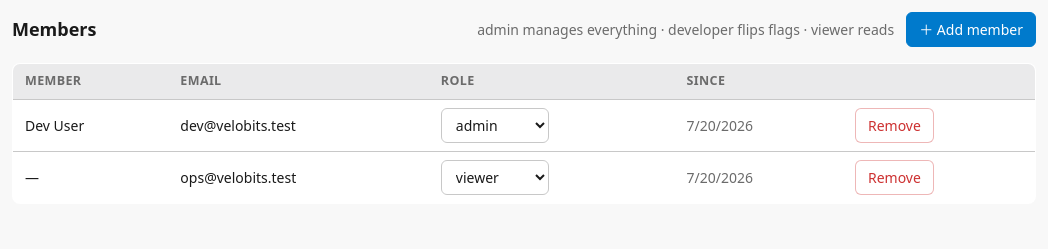
Test case: admin controls › surfaces a failed removal
The image size is (1048, 249).
Expected: the text "ops@velobits.test" is shown, [168,151,429,203]
Step 1. Click the button "Remove" in the row of "Dev User" → (894, 125), box [855,108,934,143]
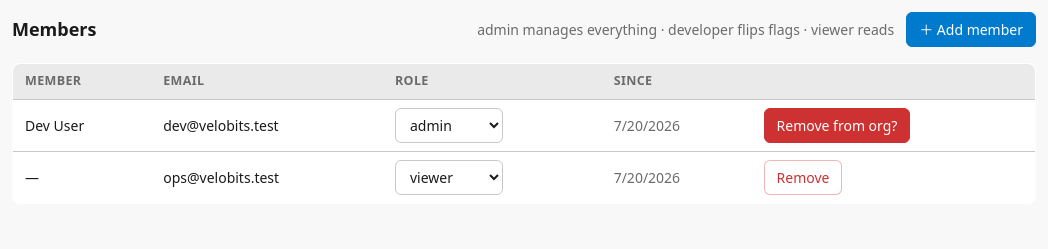
Step 2. Click the button "Remove from org?" → (837, 125), box [764,108,910,143]
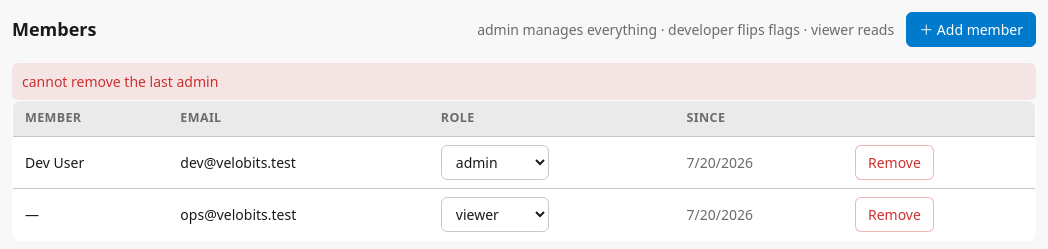
Expected: the text "cannot remove the last admin" is shown, [12,63,1036,100]
